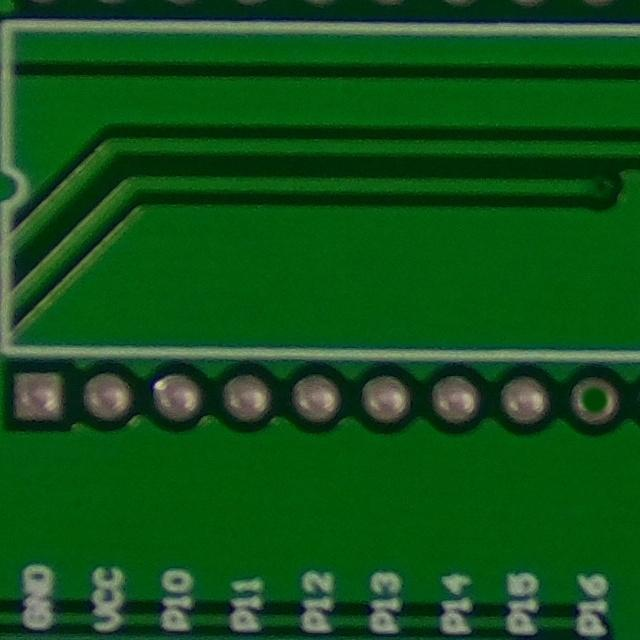missing_hole: (560, 371, 629, 433)
